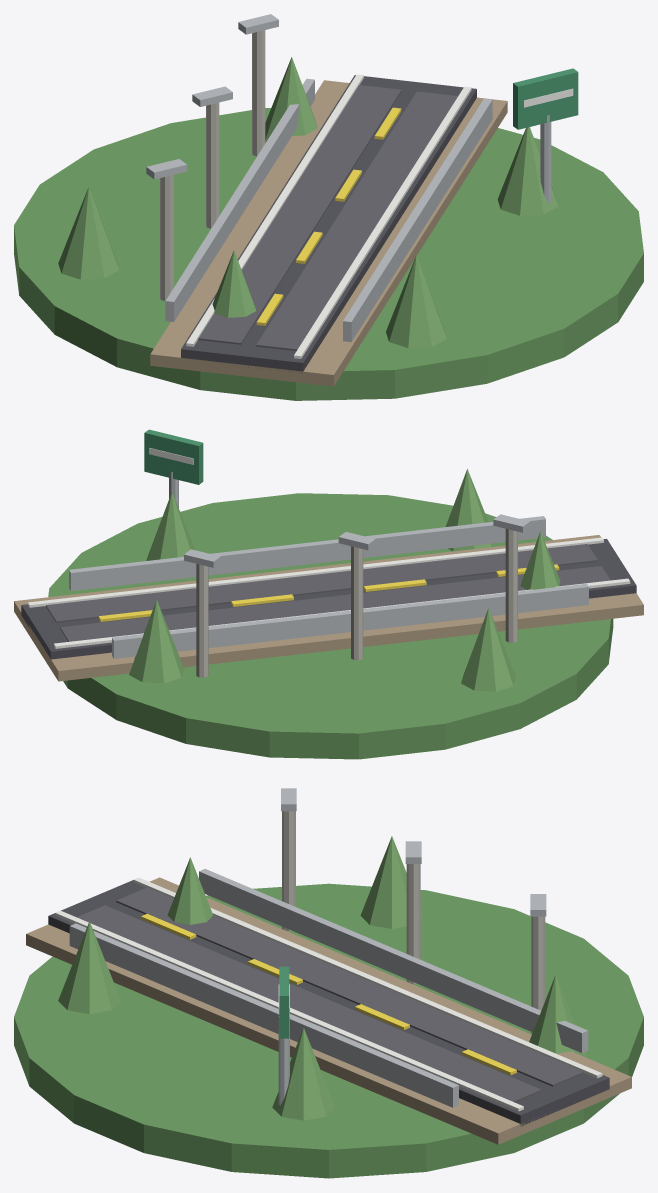
The model's file is road.glb.
The picture shows the model from 3 angles, top to bottom: view 1: azimuth 30°, elevation 25°; view 2: azimuth 150°, elevation 25°; view 3: azimuth 270°, elevation 25°; orthographic projection. The views are drawn at different scales.
Visible parts, largest first — view 1: road_base, road_shoulder, road_lane_-1, road_lane_1, road_surface, road_rail_-1, road_rail_1, road_tree_1, road_tree_4, road_tree_3, road_sign, road_edge_-1 (+10 smaller); view 2: road_base, road_shoulder, road_rail_-1, road_lane_-1, road_rail_1, road_lane_1, road_surface, road_edge_-1, road_tree_1, road_tree_2, road_sign, road_tree_3 (+6 smaller); view 3: road_base, road_shoulder, road_lane_1, road_lane_-1, road_rail_1, road_rail_-1, road_surface, road_edge_-1, road_tree_4, road_edge_1, road_tree_3, road_tree_1 (+7 smaller).
Boxes of the visible parts, x1,y1,x2,y2 form: road_base: [14, 108, 643, 400]; road_shoulder: [150, 80, 507, 386]; road_lane_-1: [256, 91, 457, 350]; road_lane_1: [198, 85, 401, 344]; road_surface: [181, 75, 476, 373]; road_rail_-1: [343, 98, 492, 342]; road_rail_1: [165, 78, 314, 321]; road_tree_1: [58, 187, 119, 279]; road_tree_4: [386, 255, 446, 348]; road_tree_3: [497, 127, 558, 215]; road_sign: [513, 68, 578, 129]; road_edge_-1: [294, 86, 471, 358]; road_base: [48, 493, 613, 759]; road_shoulder: [14, 535, 643, 681]; road_rail_-1: [69, 516, 545, 591]; road_lane_-1: [46, 544, 597, 622]; road_rail_1: [112, 583, 588, 658]; road_lane_1: [60, 566, 610, 641]; road_surface: [21, 538, 636, 659]; road_edge_-1: [27, 537, 603, 607]; road_tree_1: [461, 608, 515, 691]; road_tree_2: [129, 599, 184, 683]; road_sign: [144, 429, 203, 484]; road_tree_3: [146, 492, 194, 560]; road_base: [14, 883, 643, 1178]; road_shoulder: [26, 877, 631, 1144]; road_lane_1: [116, 887, 584, 1086]; road_lane_-1: [77, 905, 541, 1102]; road_rail_1: [199, 869, 588, 1052]; road_rail_-1: [69, 923, 458, 1107]; road_surface: [48, 880, 609, 1126]; road_edge_-1: [55, 910, 523, 1111]; road_tree_4: [58, 921, 120, 1013]; road_edge_1: [134, 877, 602, 1078]; road_tree_3: [272, 1028, 335, 1120]; road_tree_1: [360, 836, 423, 928].
Size of the model in its own units: 1 by 0.281 by 1.
